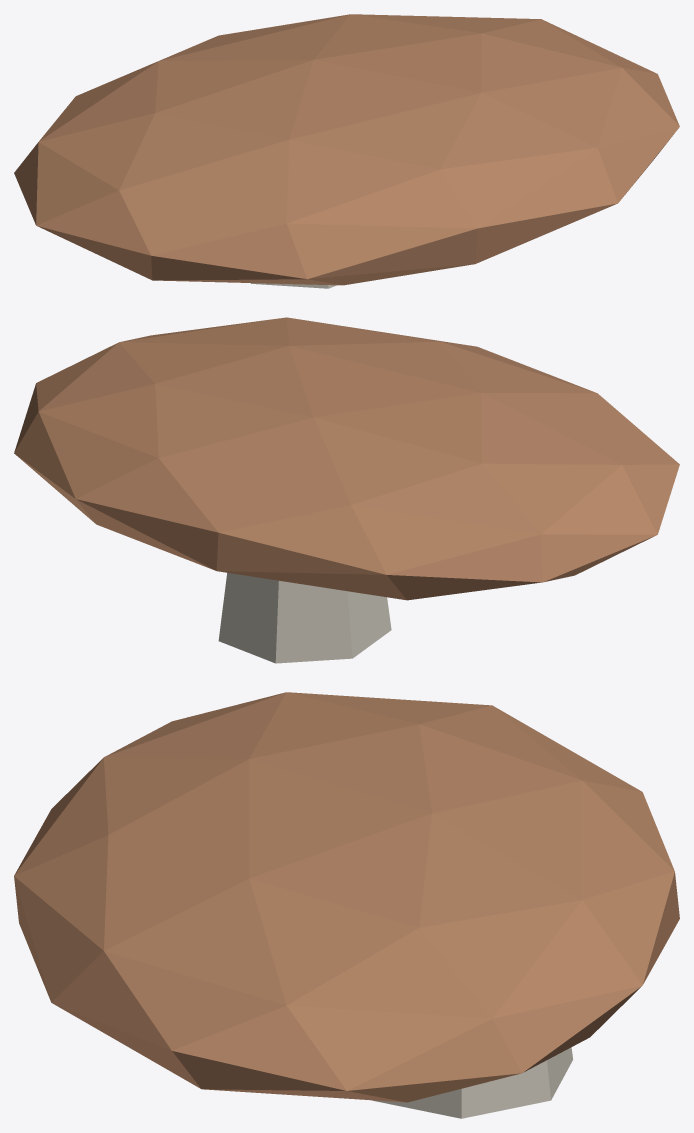
Rendered from trametopsis-cervina.glb.
The picture shows the model from 3 angles, top to bottom: view 1: azimuth 30°, elevation 25°; view 2: azimuth 150°, elevation 25°; view 3: azimuth 270°, elevation 25°; orthographic projection. The views are drawn at different scales.
Visible parts, largest first — view 1: shelf; view 2: shelf, stalk; view 3: shelf, stalk.
Part boxes in pixels (x1,y1,x2,y2): shelf: [14, 14, 679, 285]; shelf: [14, 317, 679, 600]; stalk: [218, 573, 391, 663]; shelf: [14, 692, 679, 1102]; stalk: [372, 1047, 573, 1118].
Size of the model in its own units: 0.48 by 0.1484 by 0.3488.
